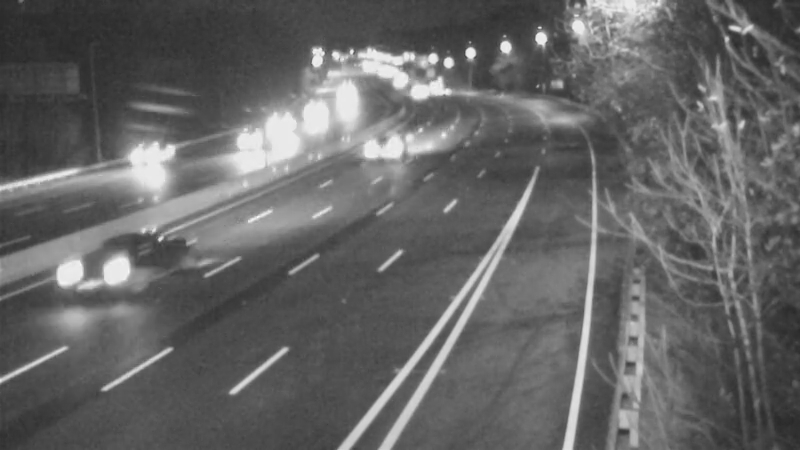vehicle: (57, 238, 137, 318), (106, 119, 186, 199), (392, 65, 442, 115), (366, 125, 416, 175), (223, 117, 273, 167), (257, 98, 307, 148), (291, 89, 341, 139), (324, 71, 374, 121)
